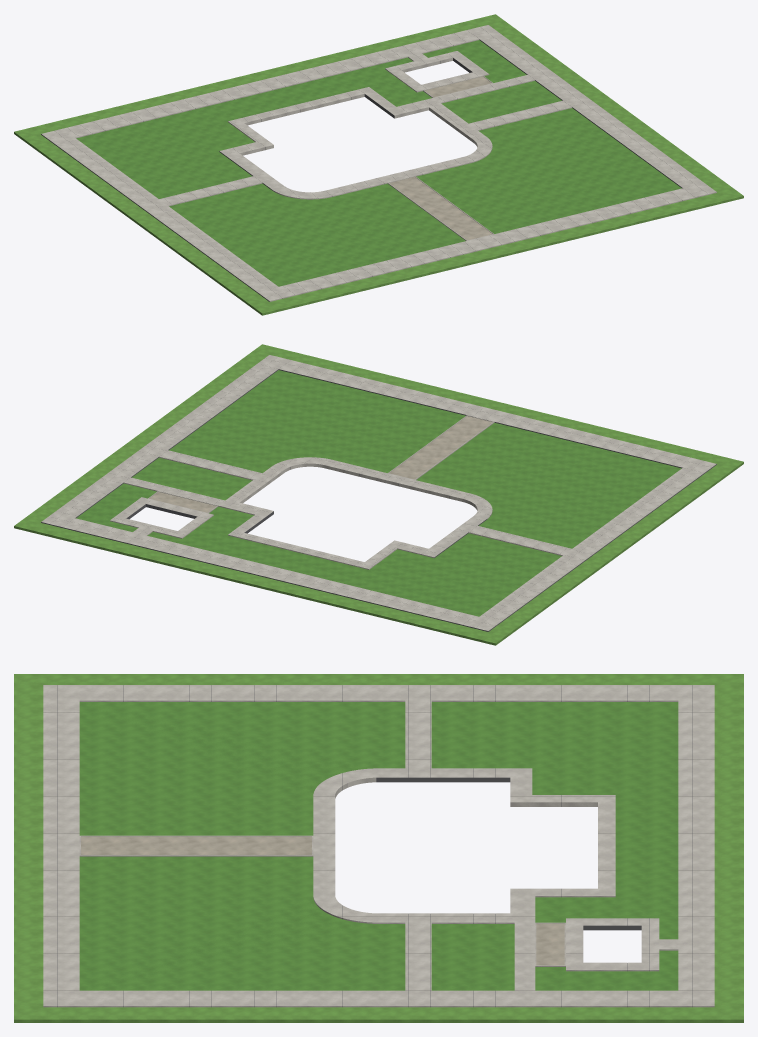
Rendered from site.glb.
3 views of the same model, one above another, from view 1: azimuth 30°, elevation 25°; view 2: azimuth 150°, elevation 25°; view 3: azimuth 270°, elevation 25° (orthographic). The views are drawn at different scales.
Visible parts, largest first — view 1: site_grass, site_paver, site_grass2, site_gravel, site_dark, site_concrete; view 2: site_grass, site_paver, site_grass2, site_gravel, site_dark, site_concrete; view 3: site_grass, site_paver, site_grass2, site_gravel, site_dark, site_concrete.
Part boxes in pixels (bbox=[...]): site_grass: bbox=[76, 40, 681, 286]; site_paver: bbox=[41, 25, 716, 301]; site_grass2: bbox=[14, 14, 743, 315]; site_gravel: bbox=[389, 76, 492, 240]; site_dark: bbox=[41, 39, 682, 301]; site_concrete: bbox=[387, 75, 493, 240]; site_grass: bbox=[76, 370, 681, 616]; site_paver: bbox=[41, 355, 716, 630]; site_grass2: bbox=[14, 344, 743, 645]; site_gravel: bbox=[149, 416, 492, 512]; site_dark: bbox=[41, 369, 716, 631]; site_concrete: bbox=[148, 415, 494, 513]; site_grass: bbox=[79, 702, 678, 990]; site_paver: bbox=[43, 685, 714, 1007]; site_grass2: bbox=[14, 674, 743, 1022]; site_gravel: bbox=[81, 836, 564, 965]; site_dark: bbox=[57, 685, 692, 1006]; site_concrete: bbox=[79, 835, 565, 966].
Size of the model in its own units: 56 by 0.35 by 50.
6 materials, 5 textured.
